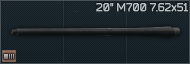Remington M700 7.62x51 20 inch barrel: (0, 0, 190, 64)
